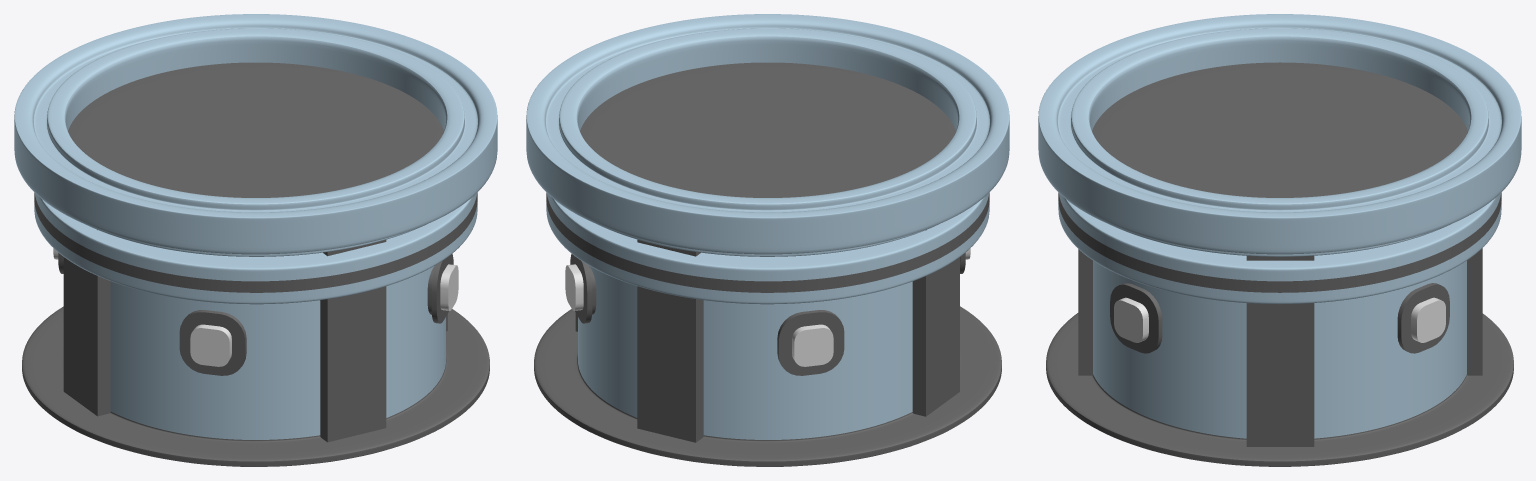
File: TOWER 1.0.fbx
The picture shows the model from 3 angles, left to right: view 1: azimuth 30°, elevation 25°; view 2: azimuth 150°, elevation 25°; view 3: azimuth 270°, elevation 25°; orthographic projection.
Parts seen in each view (by area): view 1: Cylinder, Cube.001, Cube, Plane; view 2: Cylinder, Cube.001, Cube, Plane; view 3: Cylinder, Cube, Plane, Cube.001.
Part boxes in pixels (bbox=[...]): Cylinder: bbox=[14, 14, 497, 466]; Cube.001: bbox=[320, 240, 386, 442]; Cube: bbox=[63, 257, 447, 416]; Plane: bbox=[53, 248, 458, 375]; Cylinder: bbox=[526, 14, 1009, 466]; Cube.001: bbox=[637, 239, 703, 442]; Cube: bbox=[575, 230, 959, 416]; Plane: bbox=[565, 248, 970, 375]; Cylinder: bbox=[1038, 14, 1521, 466]; Cube: bbox=[1246, 256, 1314, 446]; Plane: bbox=[1110, 283, 1449, 353]; Cube.001: bbox=[1078, 248, 1482, 375].
Size of the model in its own units: 421 by 244 by 421.
